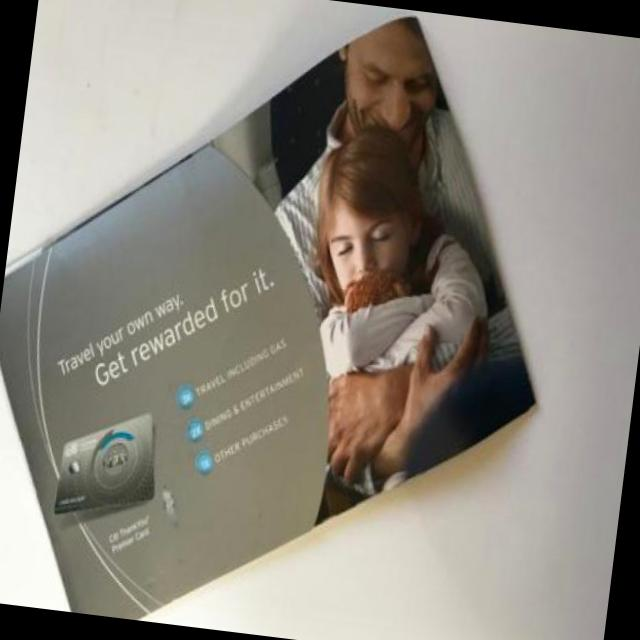cardboard paper: (0, 15, 535, 619)
